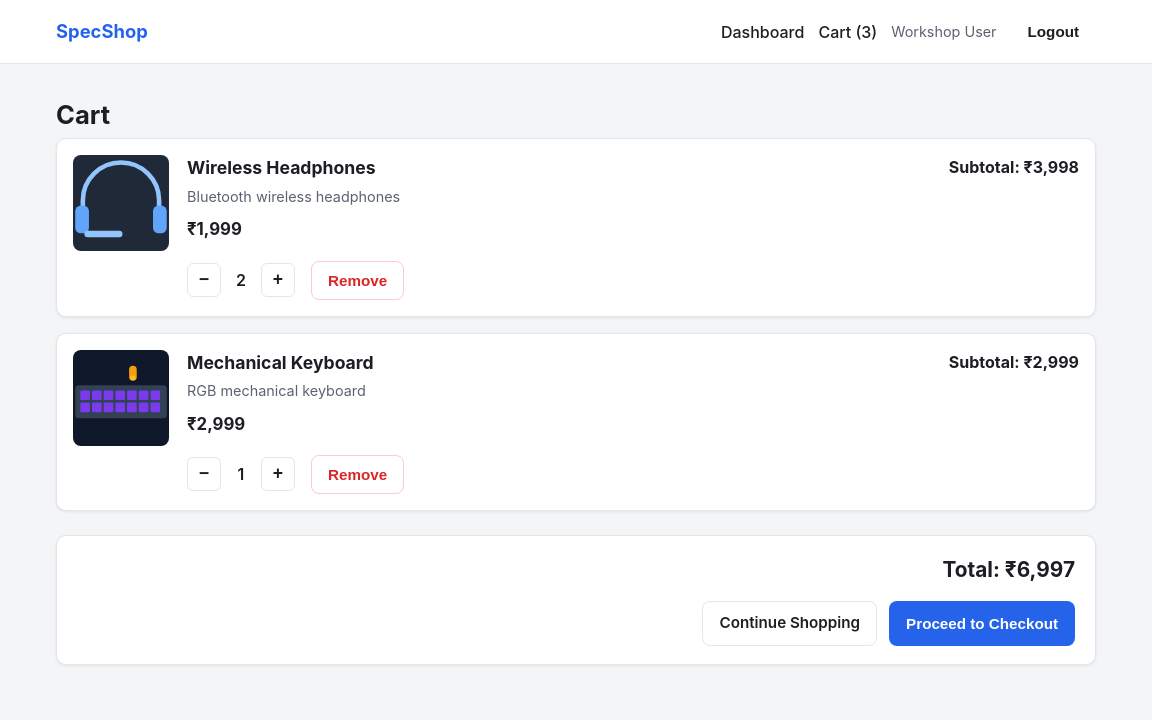
cart spec › removes a product completely with Remove
This screenshot has width=1152, height=720.
Click the button "Remove" below "₹1,999" at (358, 280), box [311,261,404,300]
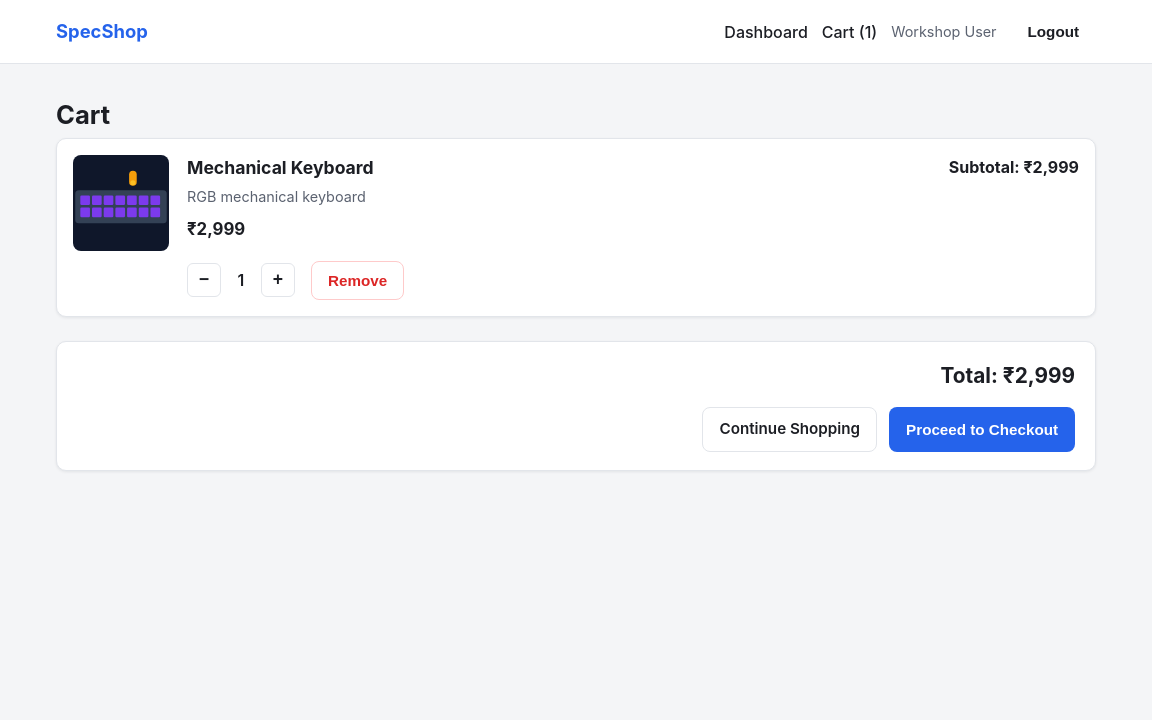
Expected: the heading "Mechanical Keyboard" is shown, [187,157,374,178]
Expected: the heading "Wireless Headphones" is gone
